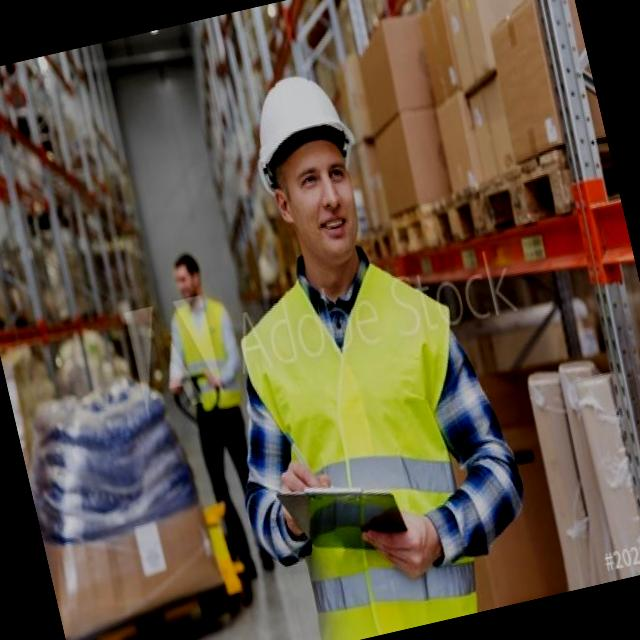no-gloves: (359, 504, 450, 586), (266, 456, 338, 540)
no-helmet: (168, 250, 208, 298)
vest: (236, 256, 504, 639), (167, 292, 248, 420)
